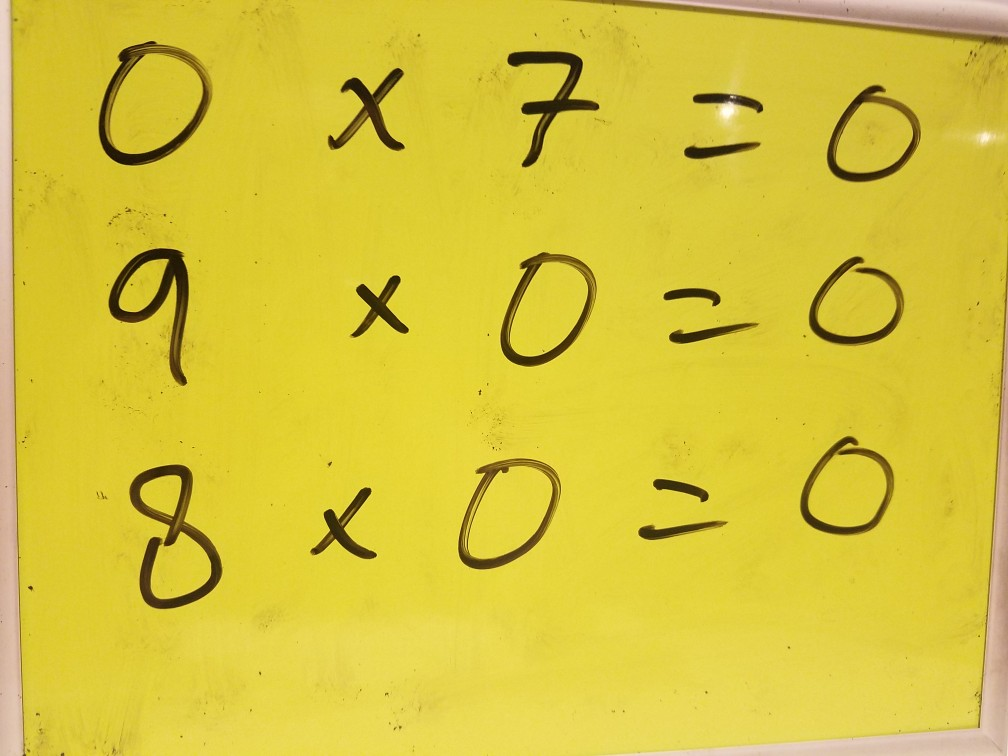0: (89, 20, 221, 177), (483, 230, 605, 392), (438, 427, 565, 579), (781, 416, 915, 559), (792, 240, 923, 370), (821, 73, 932, 195)
7: (492, 33, 611, 179)
8: (103, 454, 235, 622)
9: (99, 235, 210, 397)
=: (624, 441, 746, 563), (659, 73, 779, 176), (647, 260, 763, 360)
x: (326, 59, 416, 164), (344, 262, 427, 346), (306, 476, 380, 564)
